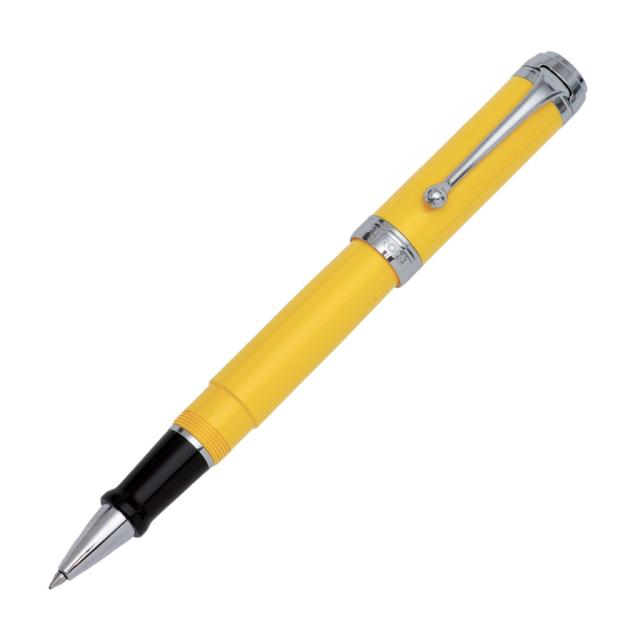pen: (44, 50, 587, 590)
